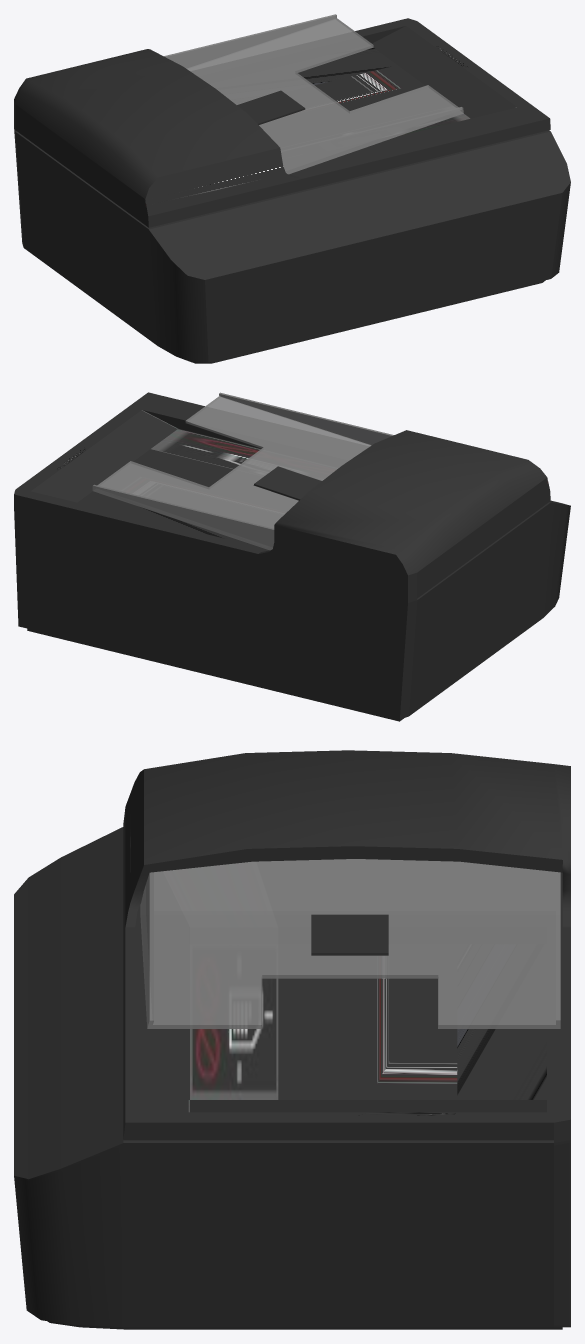
File: Printer.fbx
3 views of the same model, one above another, from view 1: azimuth 30°, elevation 25°; view 2: azimuth 150°, elevation 25°; view 3: azimuth 270°, elevation 25° (orthographic). The views are drawn at different scales.
Parts seen in each view (by area): view 1: inkjet_and_scanner_printer_Mesh; view 2: inkjet_and_scanner_printer_Mesh; view 3: inkjet_and_scanner_printer_Mesh.
Part boxes in pixels (x1,y1,x2,y2): inkjet_and_scanner_printer_Mesh: (14, 14, 570, 363); inkjet_and_scanner_printer_Mesh: (14, 392, 570, 721); inkjet_and_scanner_printer_Mesh: (14, 750, 570, 1329).
Bounding box in the file's own units: 44.6 × 18.9 × 33.2.
